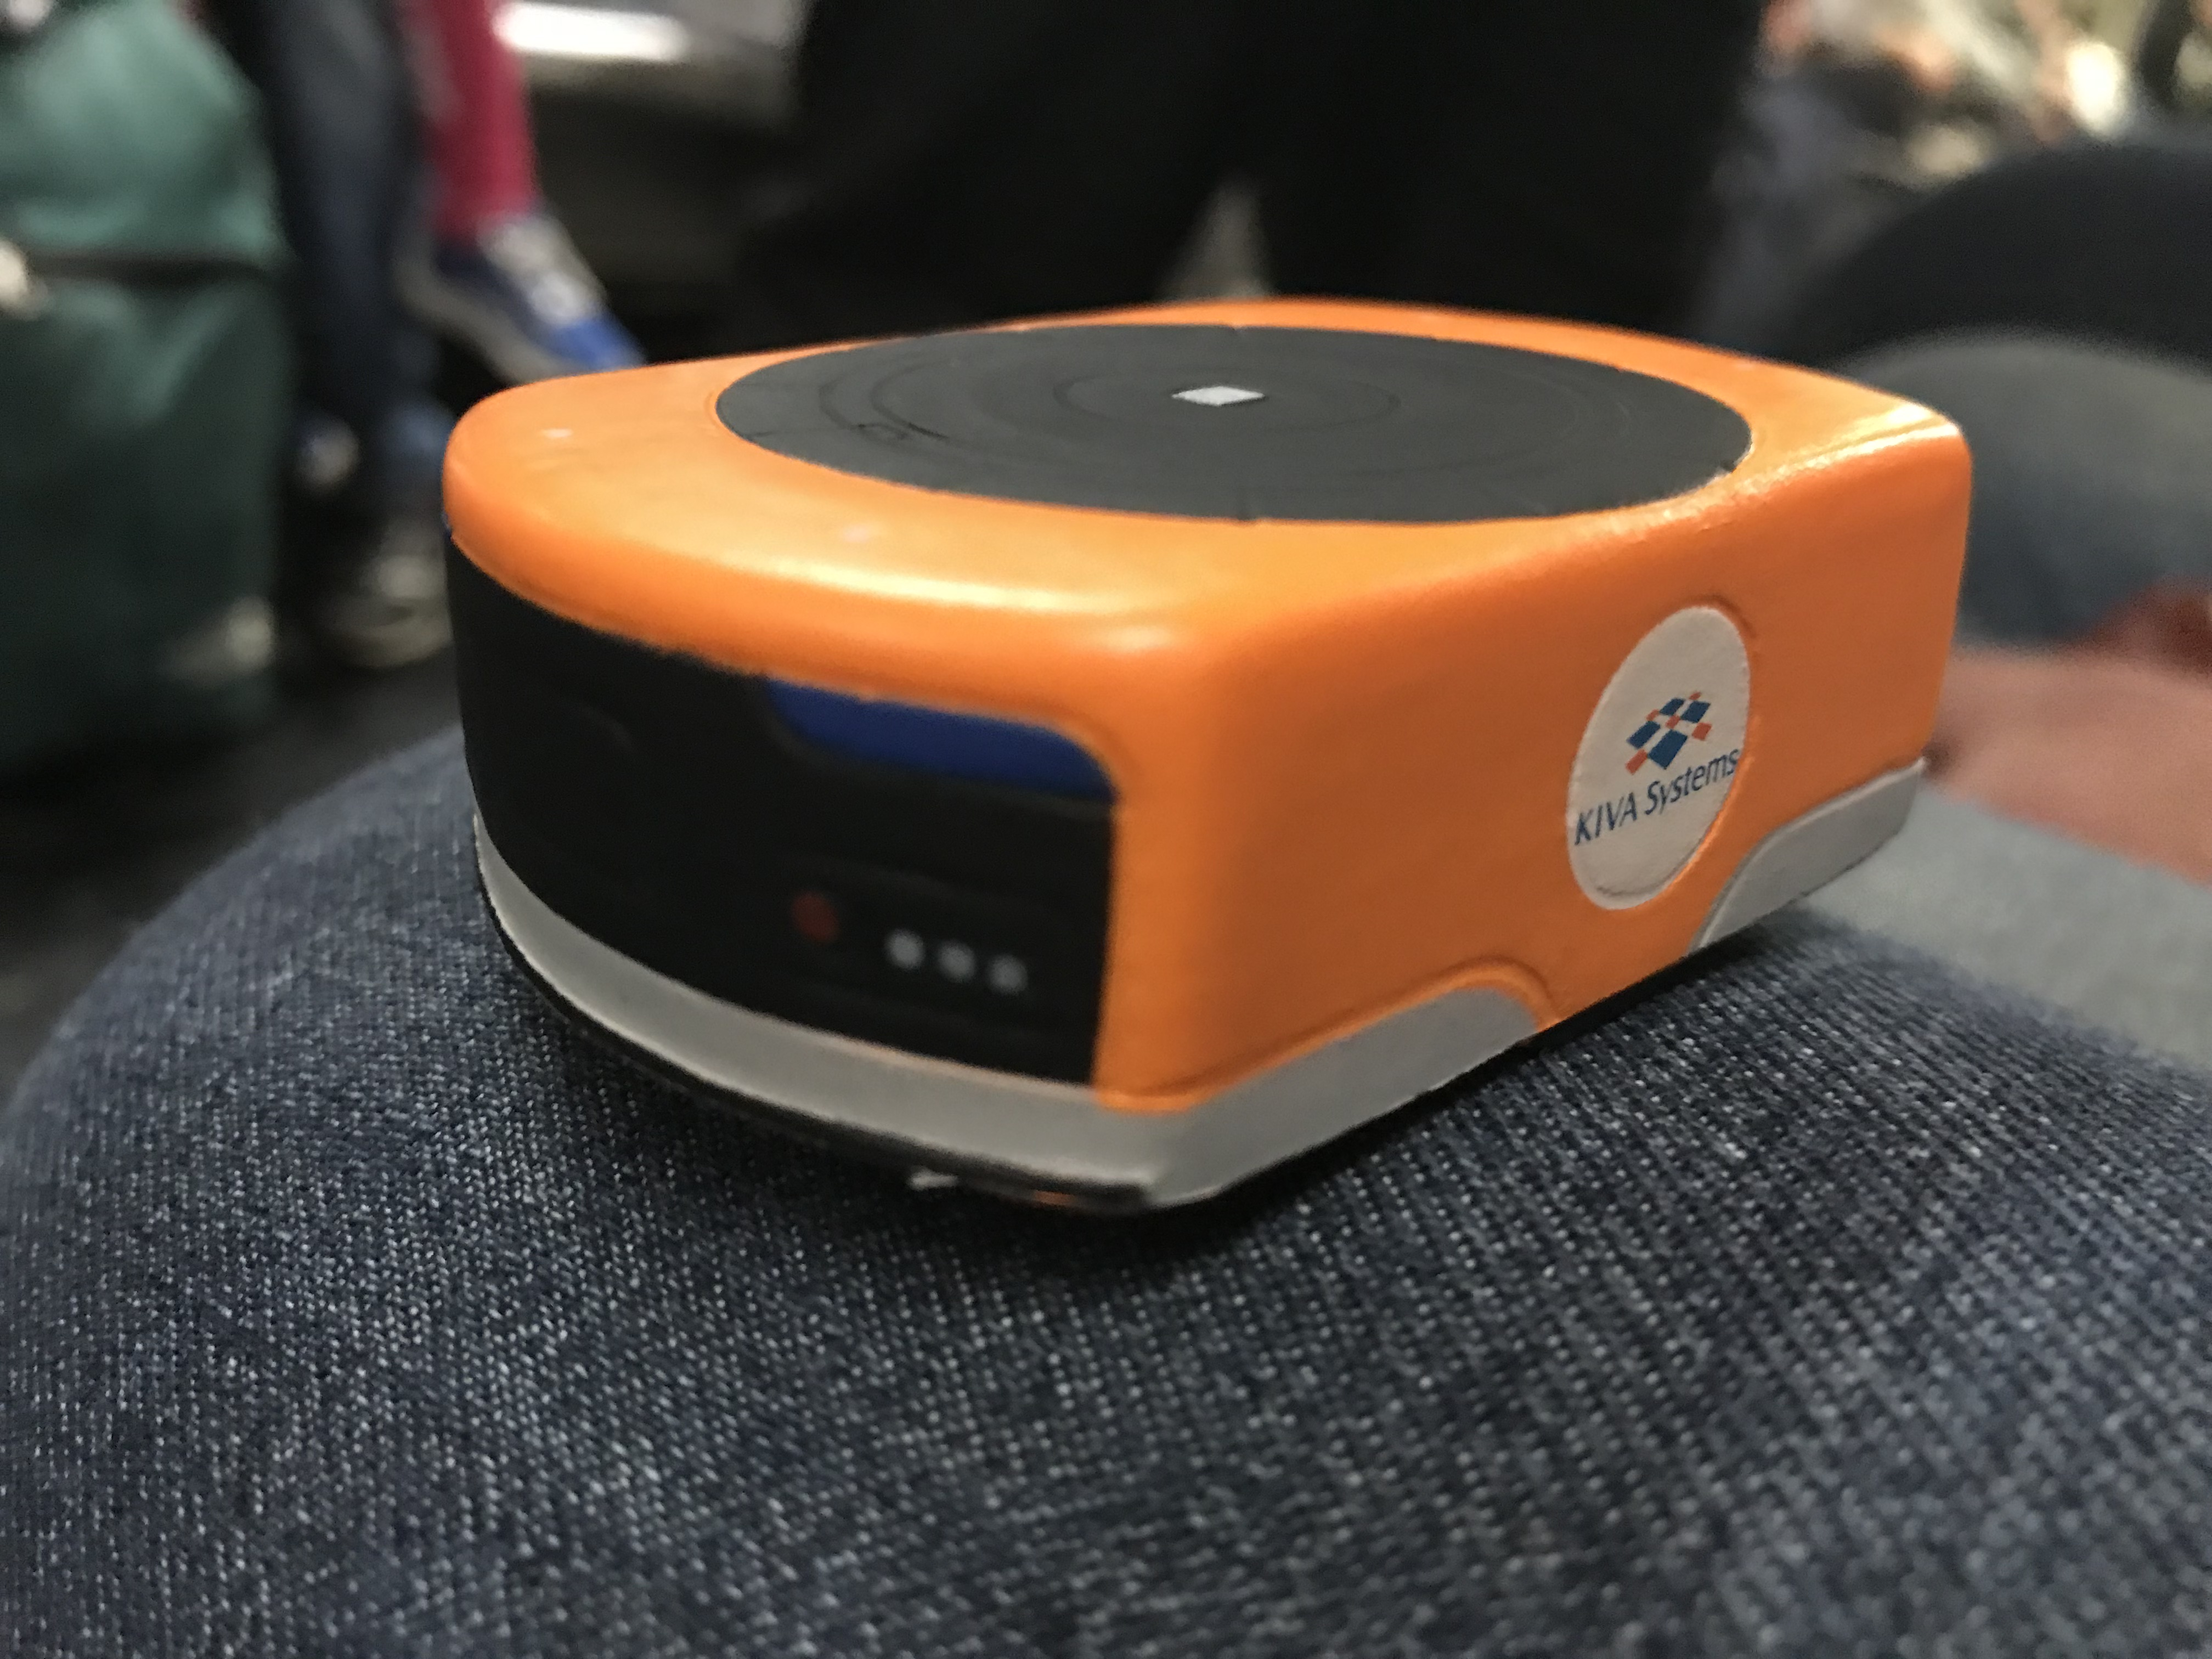amazon_bot: (425, 268, 2001, 1236)
